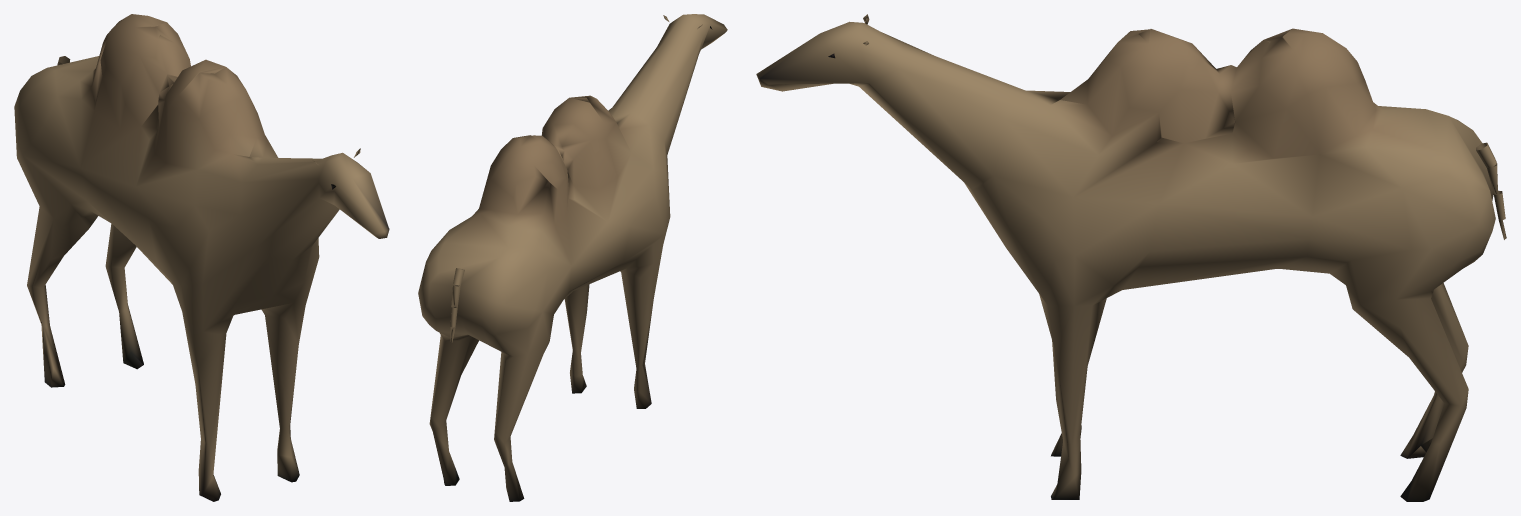
The model's file is trampeltier.glb.
3 renders of one model, left to right at view 1: azimuth 30°, elevation 25°; view 2: azimuth 150°, elevation 25°; view 3: azimuth 270°, elevation 25°, orthographic. The views are drawn at different scales.
Visible parts, largest first — view 1: lack; view 2: lack; view 3: lack.
Part boxes in pixels (x1,y1,x2,y2): lack: (14, 14, 389, 501); lack: (418, 14, 727, 501); lack: (756, 14, 1506, 501).
Bounding box in the file's own units: 0.9113 × 2.45 × 3.68.
